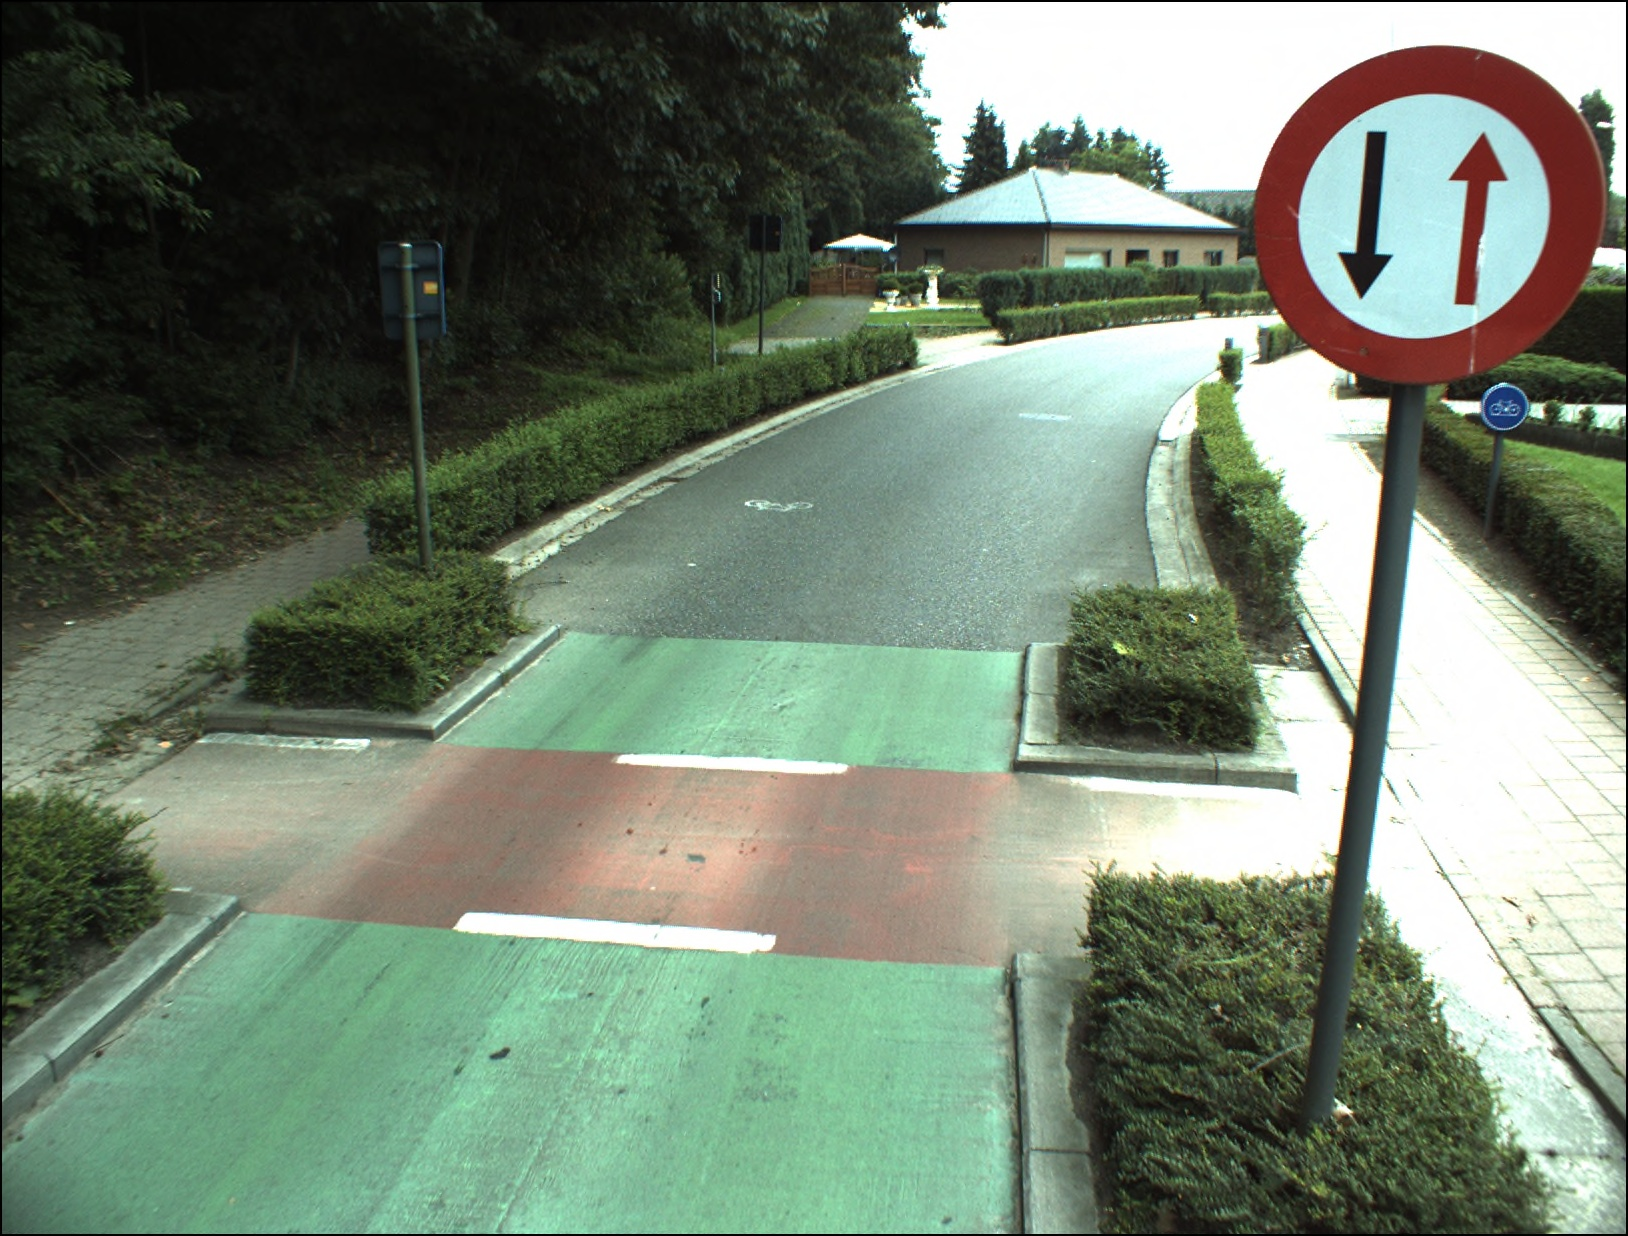cycle: (1479, 380, 1531, 431)
roadnarrow2: (1259, 51, 1596, 380)
